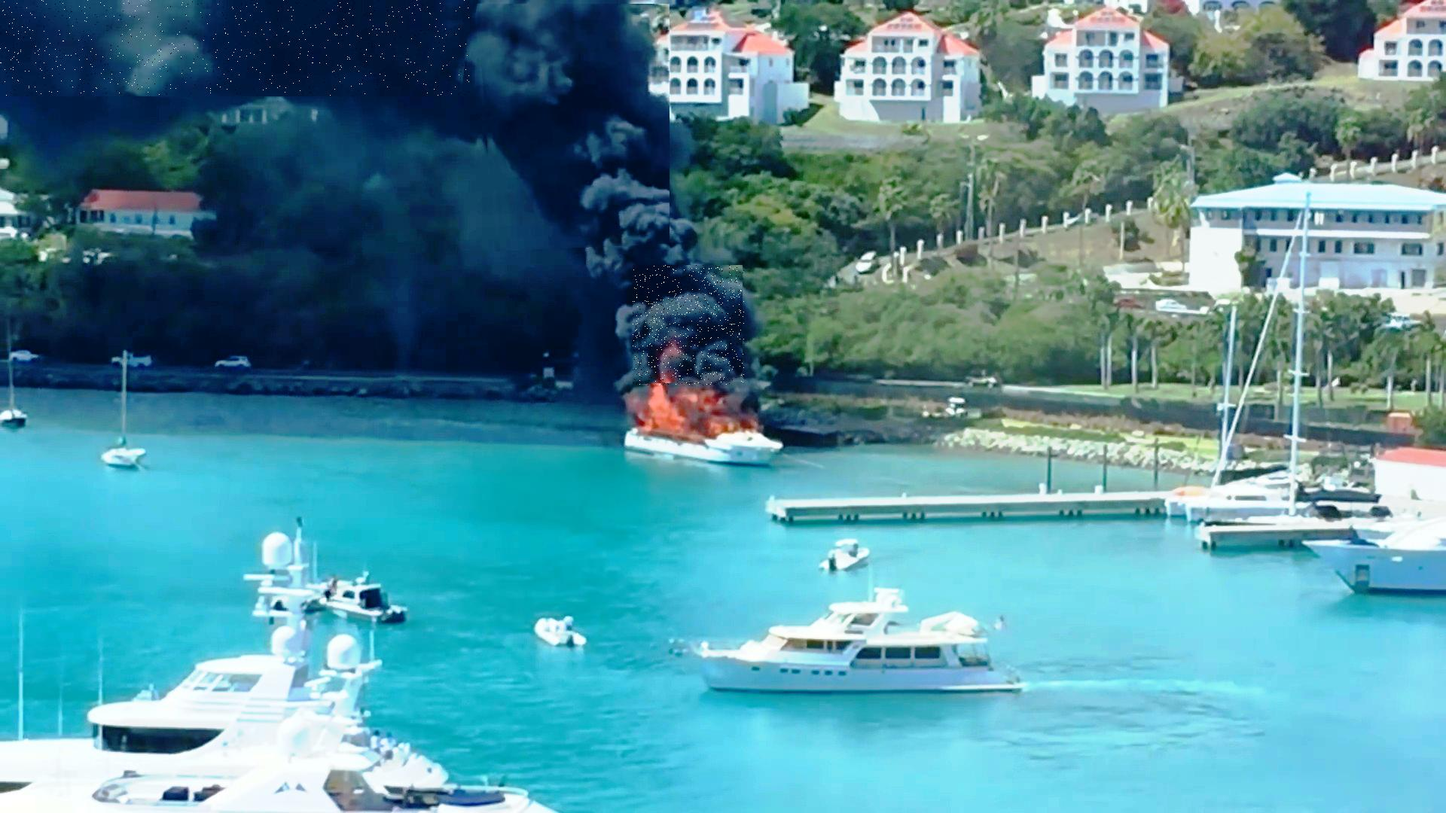smoke: (477, 4, 670, 253), (0, 0, 469, 96), (633, 266, 745, 386)
